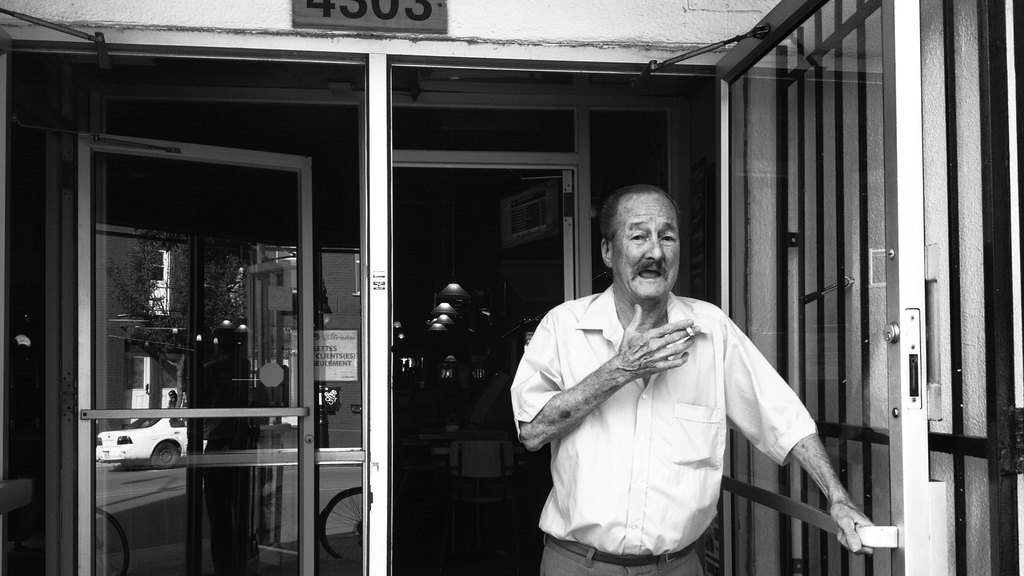Door: (710, 0, 920, 575), (70, 128, 319, 575)
